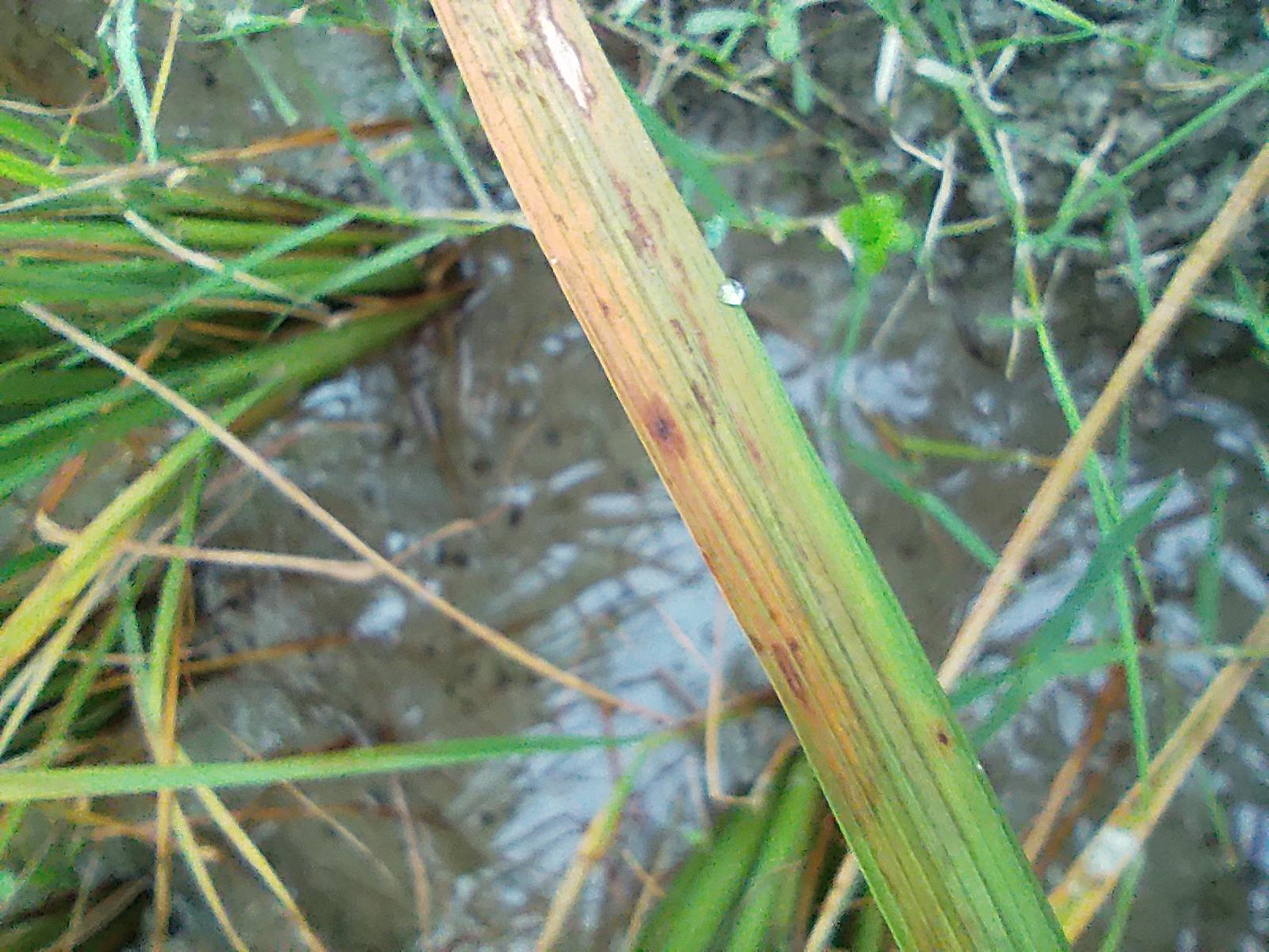LEAF: (0, 330, 1268, 801)
NBS: (332, 578, 412, 604), (701, 518, 763, 537), (267, 701, 312, 716), (1144, 386, 1170, 398), (1176, 386, 1203, 397), (1130, 402, 1145, 409)
